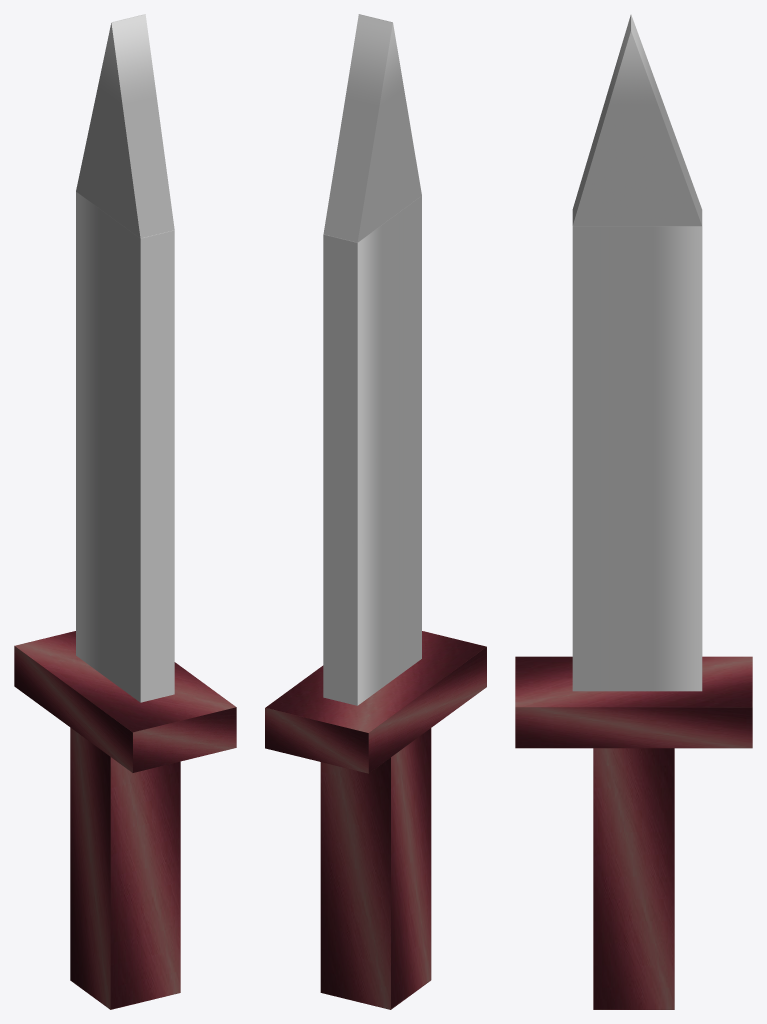
Rendered from Sword 1.FBX.
3 views of the same model, side by side, from view 1: azimuth 30°, elevation 25°; view 2: azimuth 150°, elevation 25°; view 3: azimuth 270°, elevation 25° (orthographic).
Visible parts, largest first — view 1: Box009, Box007, Box008; view 2: Box009, Box007, Box008; view 3: Box009, Box007, Box008.
Part boxes in pixels (box(x1,y1,x2,y2)): Box009: box(76, 14, 174, 702); Box007: box(70, 727, 180, 1009); Box008: box(14, 631, 236, 772); Box009: box(323, 14, 421, 705); Box007: box(320, 728, 431, 1009); Box008: box(265, 631, 486, 773); Box009: box(572, 14, 702, 691); Box007: box(593, 748, 674, 1009); Box008: box(515, 656, 752, 748).
Bounding box in the file's own units: 15.48 × 138 × 30.6.
Materials: 3 (3 with a texture image).
